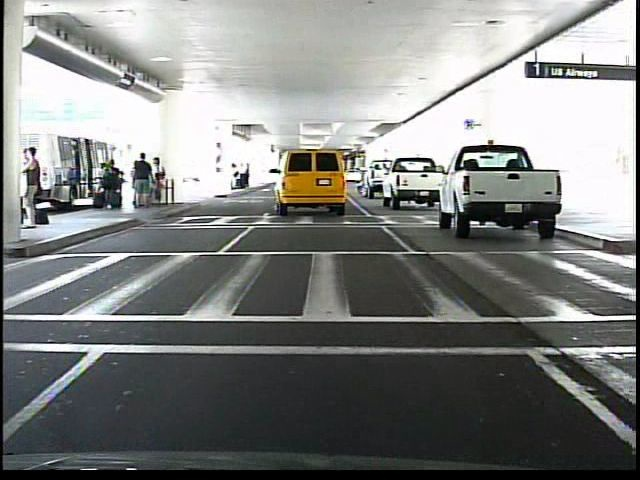person: (25, 146, 47, 231)
